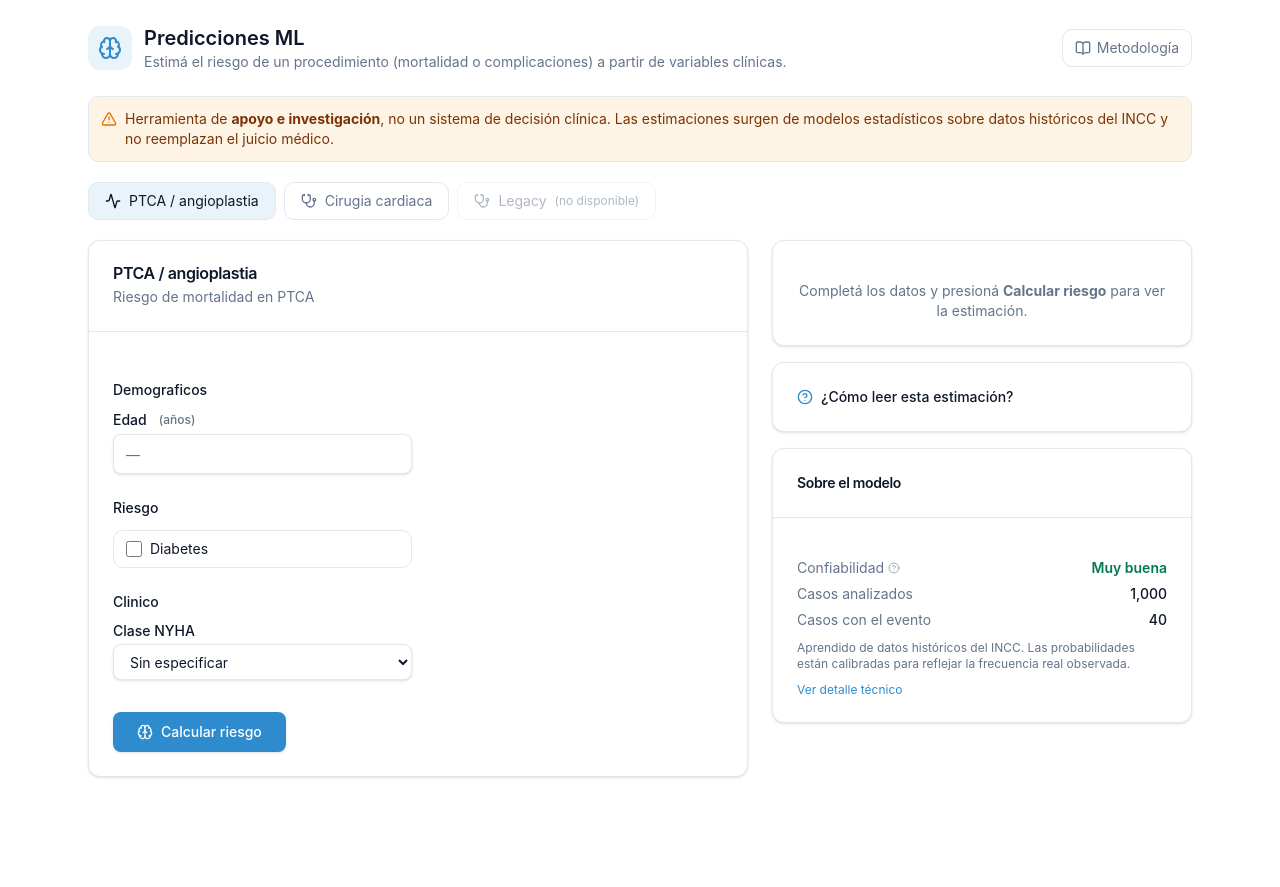
Test: MLPage › carga modelos, calcula prediccion y muestra resultado
Expected: the button "PTCA / angioplastia" is shown, [88,182,276,220]
Type "70" into the number field labelled "Edad (años)". click: point(262, 454)
box: [113,434,412,474]
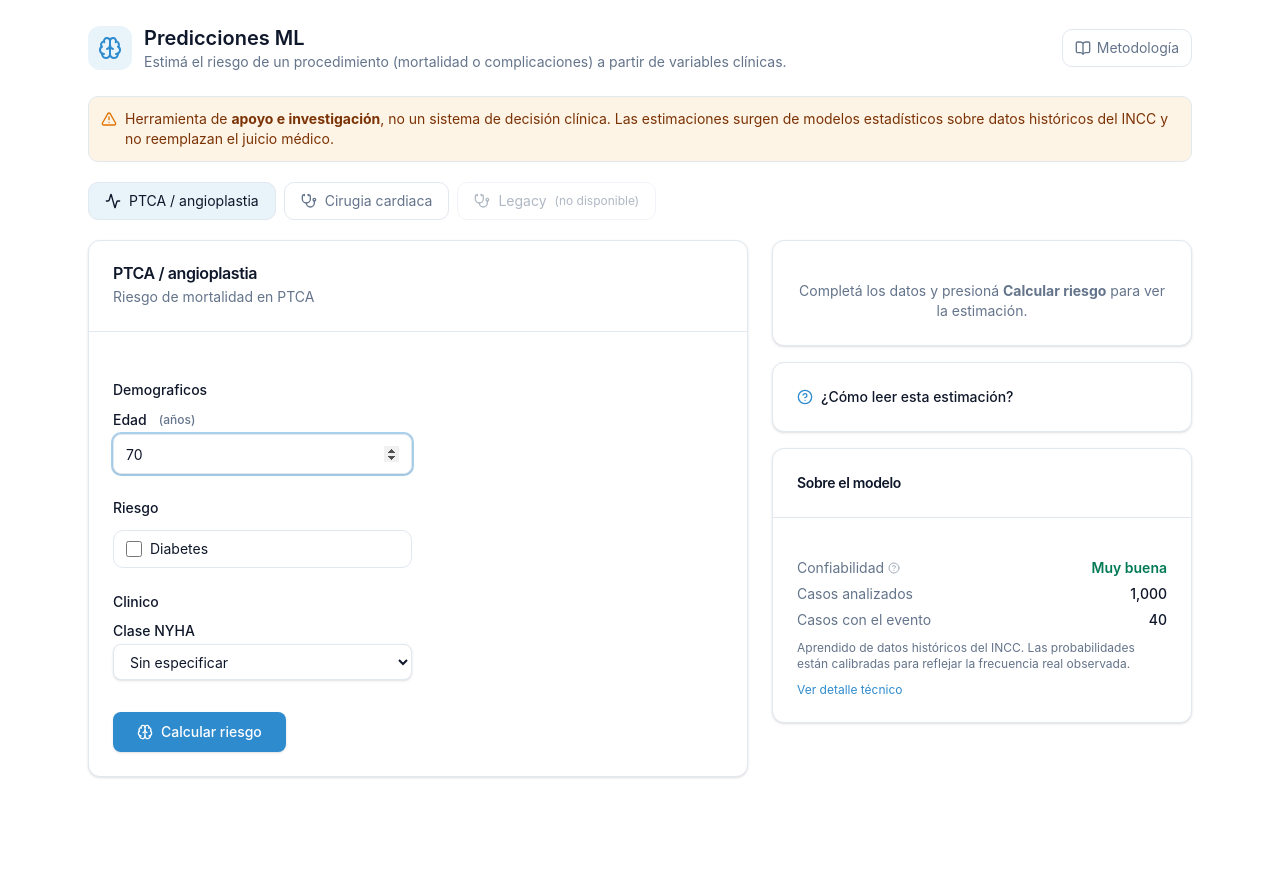
Click the checkbox labelled "Diabetes". click: point(134, 549)
box: [126,541,142,557]
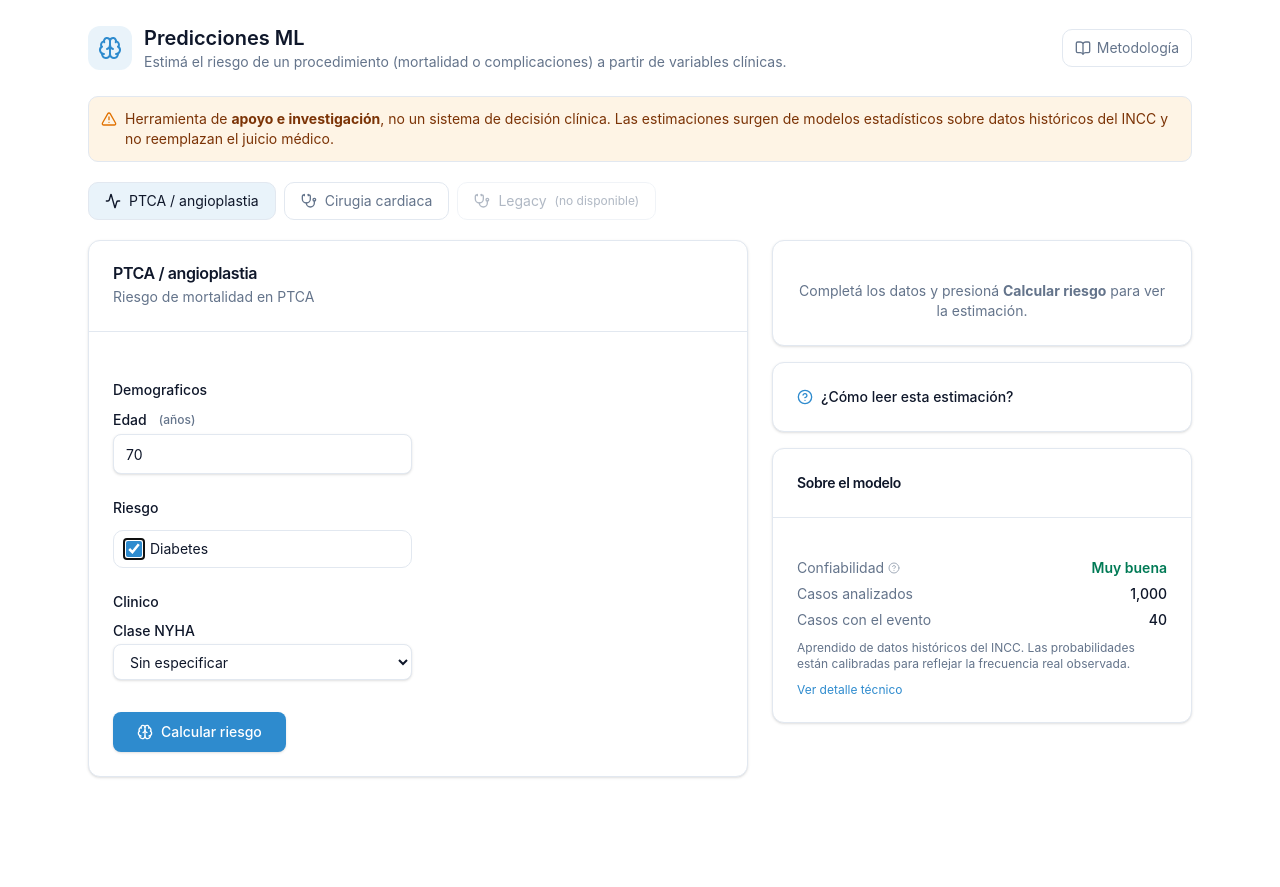
Select "II" in the dropdown labelled "Clase NYHA". click: point(262, 662)
box: [113,644,412,680]
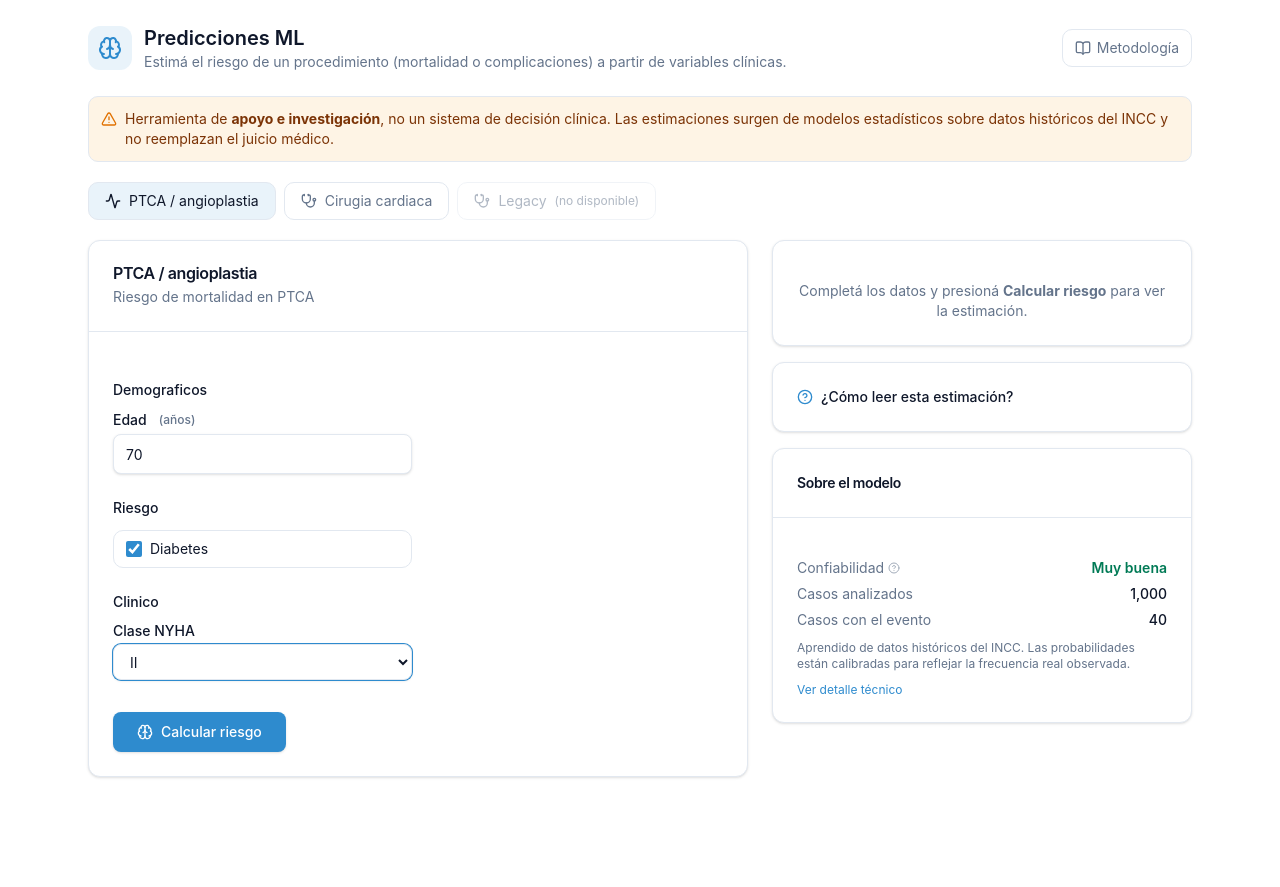
Click the button "Calcular riesgo". click: point(199, 732)
box: [113,712,286,752]
(page scrolled)
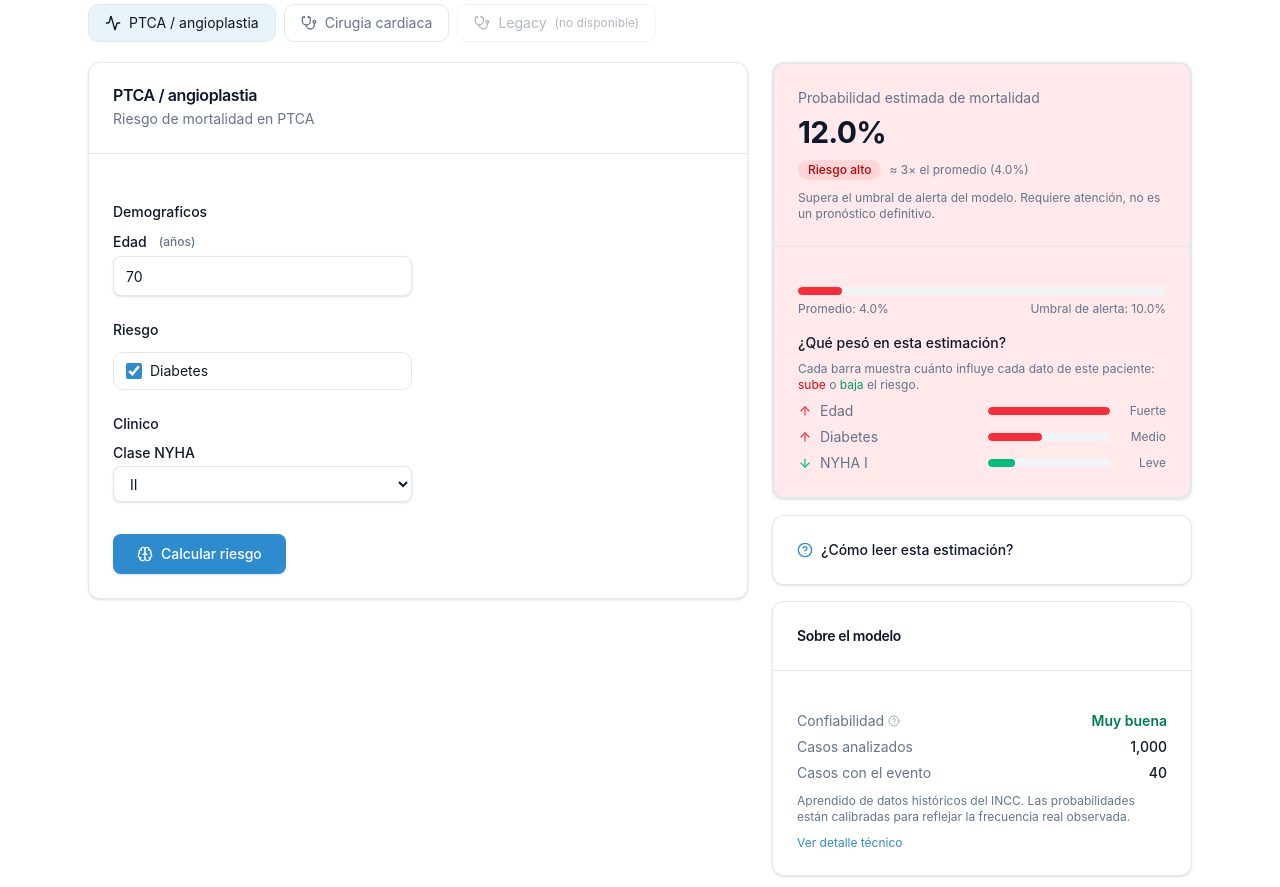
Expected: the text "Riesgo alto" is shown, [798,160,881,180]
Expected: the text "12.0%" is shown, [798,114,886,150]
Expected: the text "¿Qué pesó en esta estimación?" is shown, [798,334,1006,351]
Click the heading "Ver detalle técnico". click: point(850, 842)
box: [797,835,902,850]
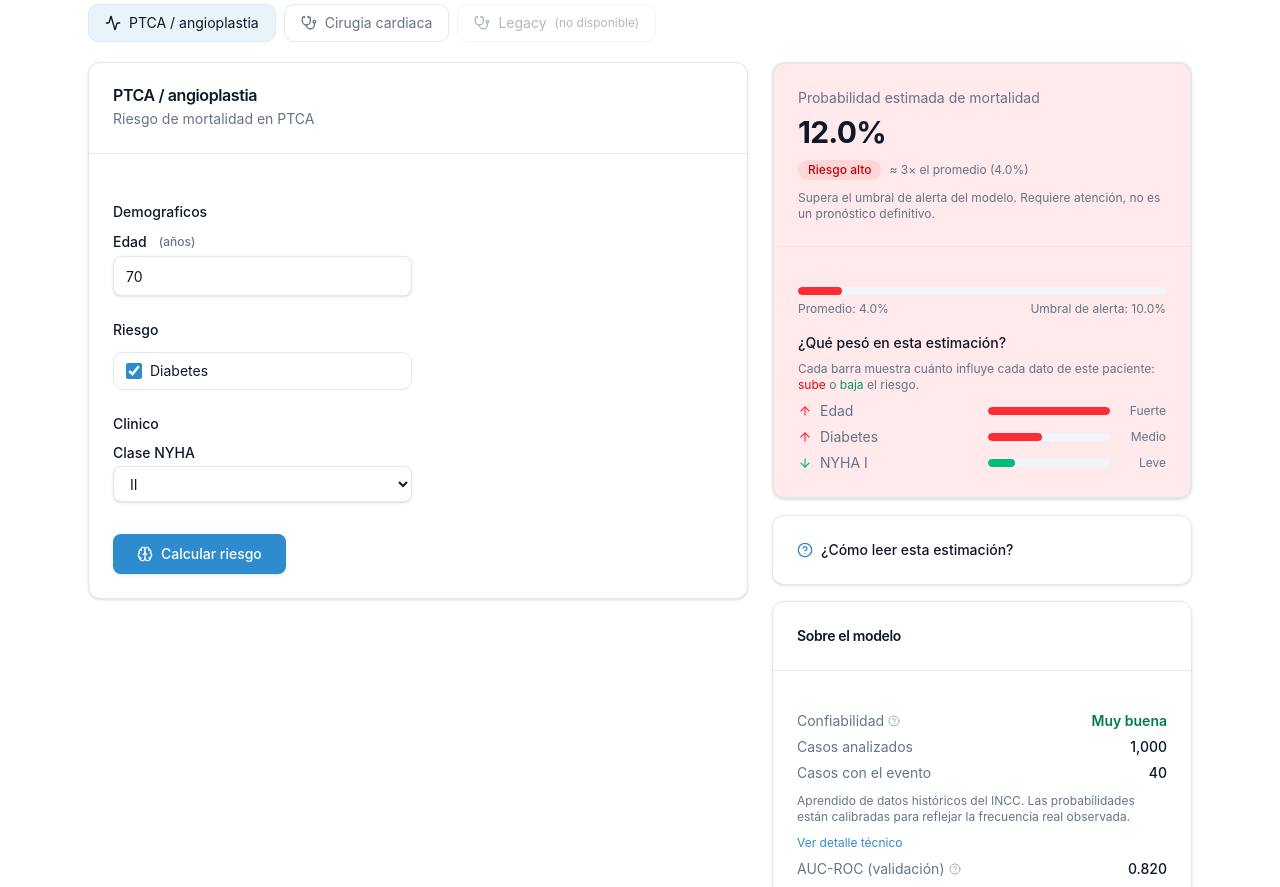
Expected: the text "AUC-ROC (validación)" is shown, [797,859,960,879]
Click the heading "¿Cómo leer esta estimación?". click: point(905, 550)
box: [797,541,1014,558]
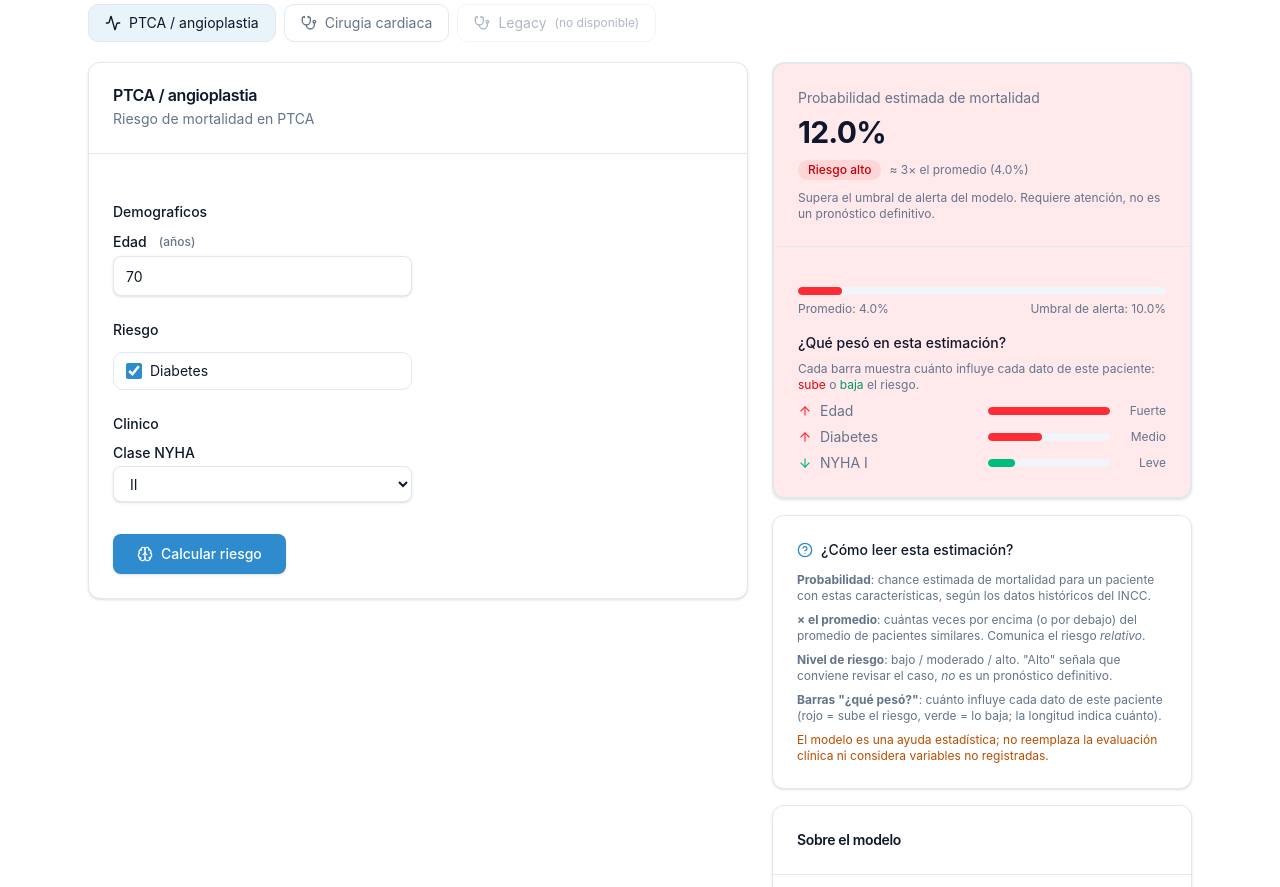
Expected: the text "chance estimada" is shown, [871,572,995,587]
